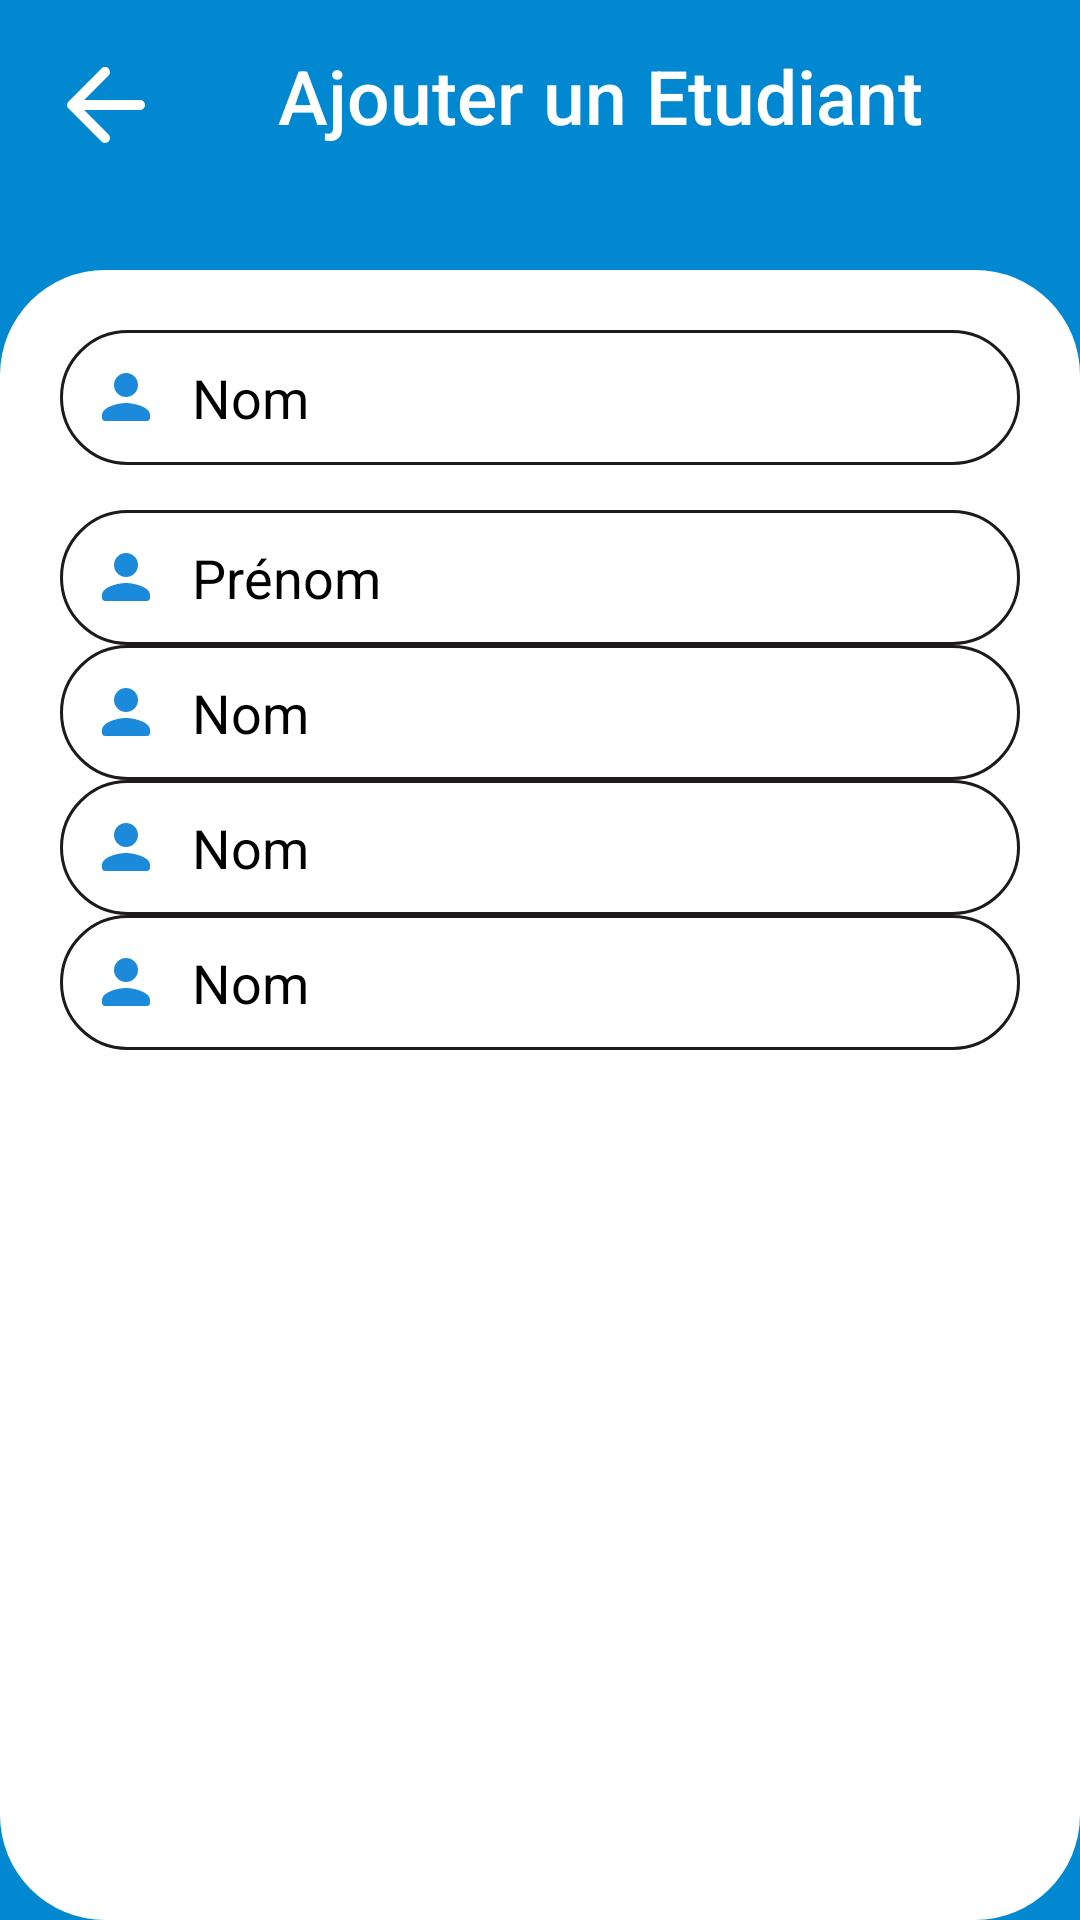

Icon click points for this 1080×1920 phone screenshot, format (x=x, y=y):
back: (x=106, y=105)
